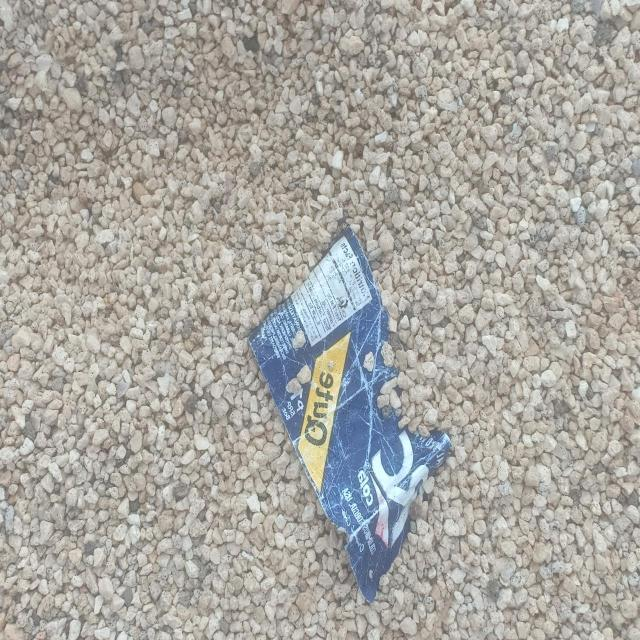plastic_waste: (250, 228, 453, 606)
